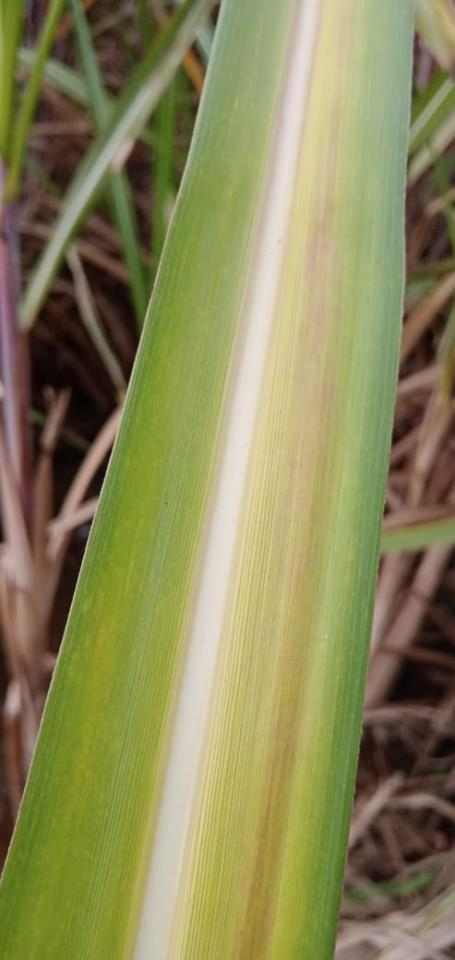Yellow: (169, 0, 348, 959)
